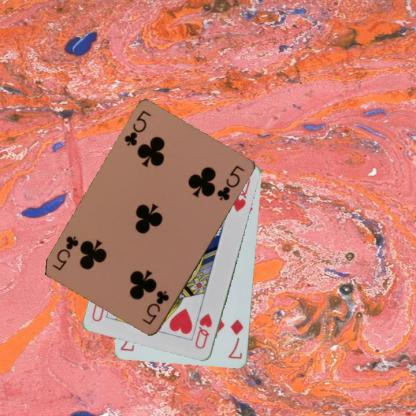5c: (139, 288, 171, 326), (122, 108, 152, 148)
7d: (226, 317, 245, 361)
Qh: (192, 311, 214, 351)
